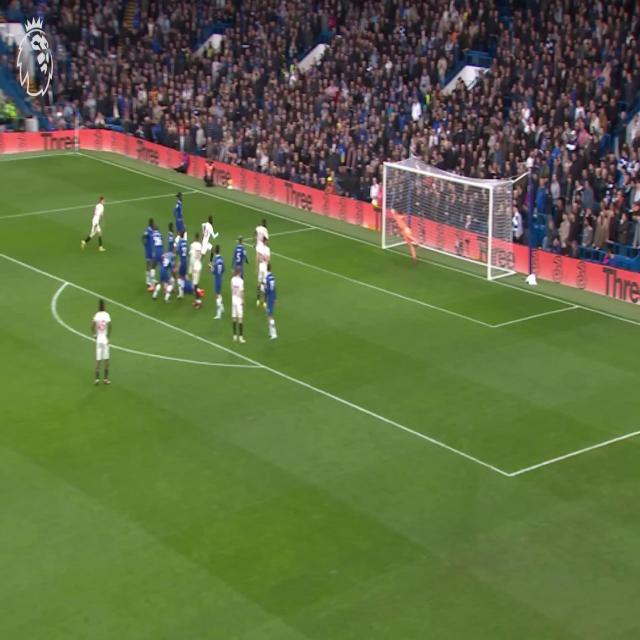left-top: (384, 164, 436, 176)
soccer-goal: (385, 166, 490, 288)
